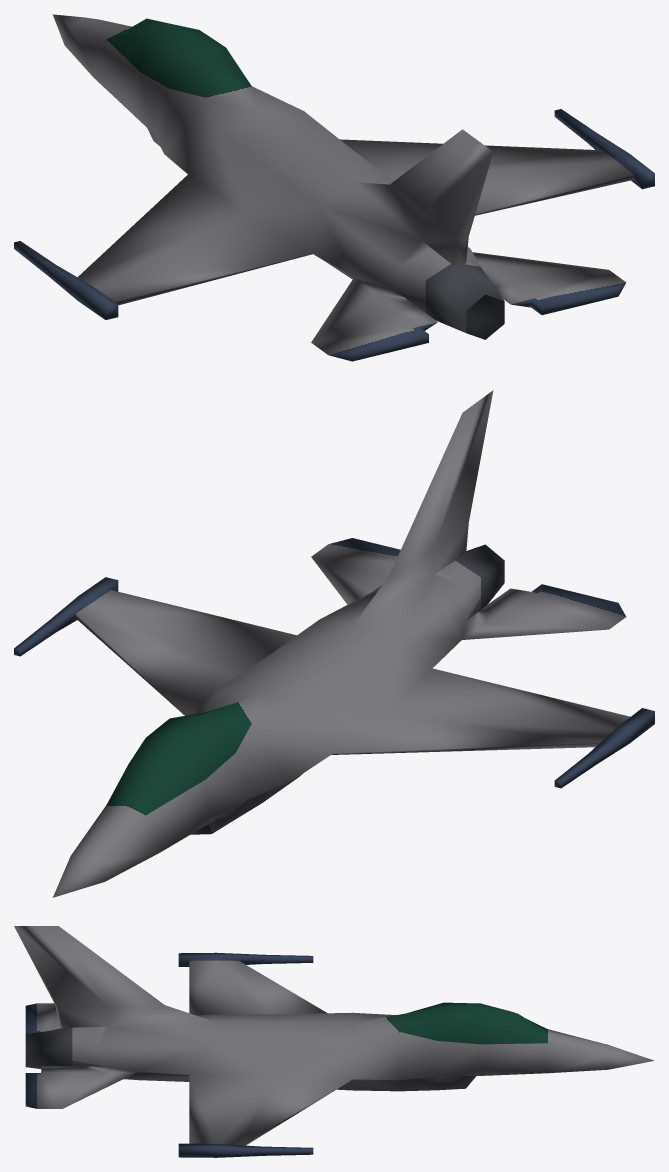
3 renders of one model, top to bottom at view 1: azimuth 30°, elevation 25°; view 2: azimuth 150°, elevation 25°; view 3: azimuth 270°, elevation 25°, orthographic. The views are drawn at different scales.
Visible parts, largest first — view 1: cylinder; view 2: cylinder; view 3: cylinder.
Boxes of the visible parts, x1=… form: cylinder: x1=14, y1=14, x2=654, y2=361; cylinder: x1=14, y1=390, x2=654, y2=897; cylinder: x1=14, y1=926, x2=654, y2=1157.
Bounding box in the file's own units: 2.44 × 0.9375 × 3.38.
1 material, 1 textured.
